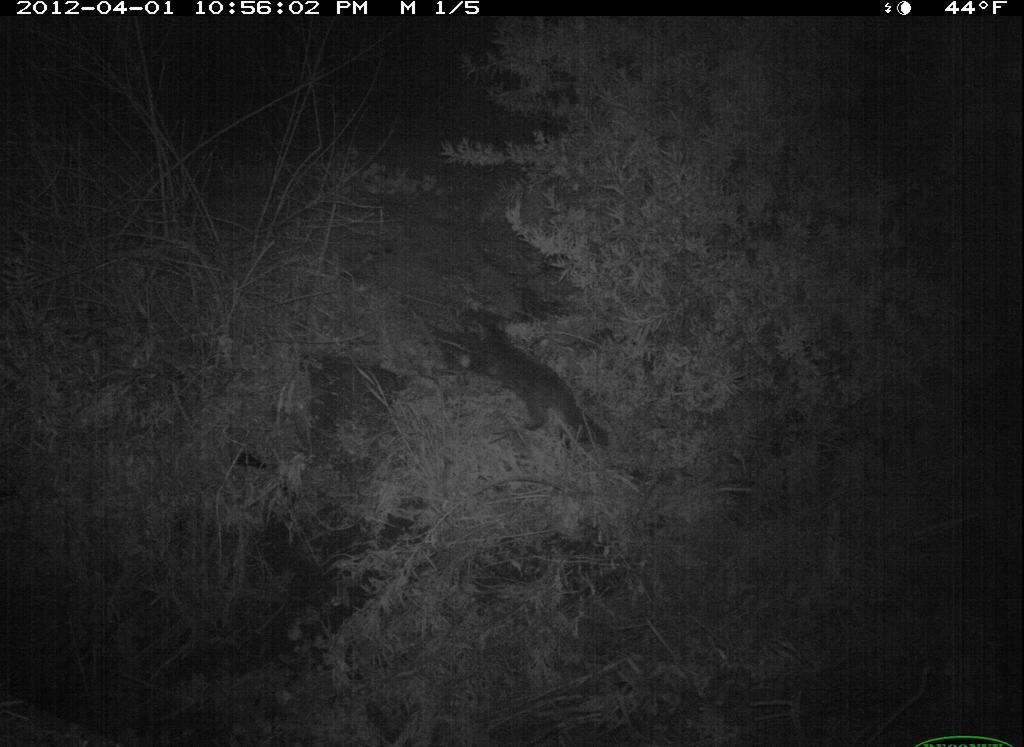cat: (427, 259, 619, 492)
